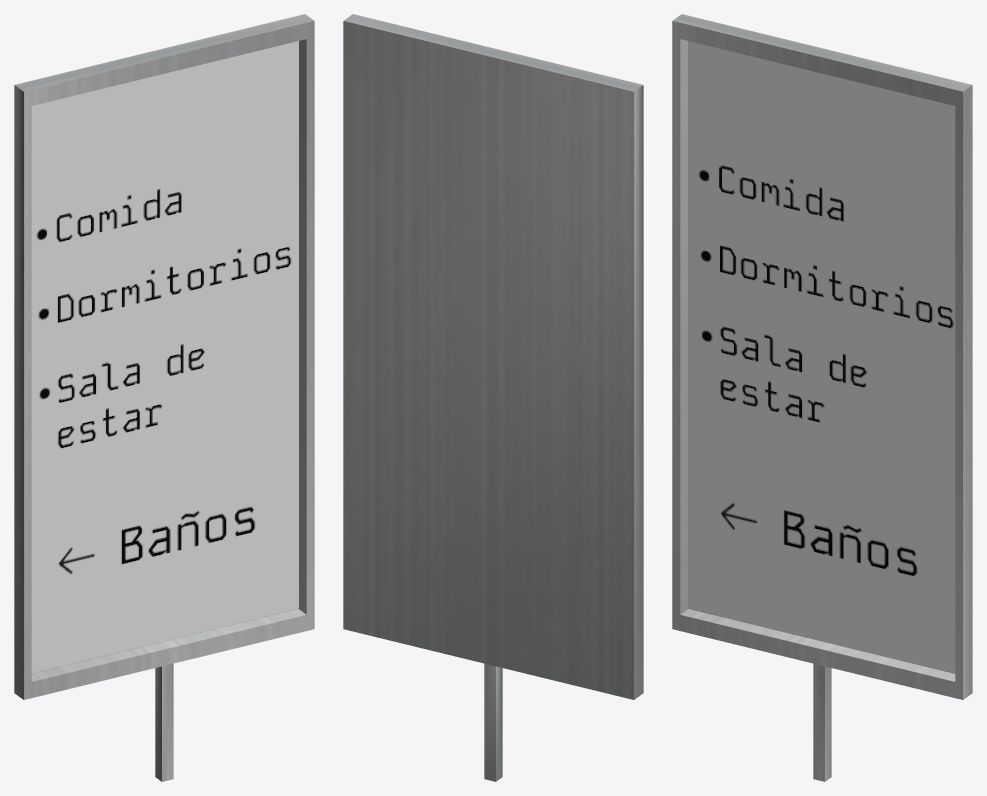
The model's file is instruccion-1.fbx.
3 renders of one model, left to right at view 1: azimuth 30°, elevation 25°; view 2: azimuth 150°, elevation 25°; view 3: azimuth 330°, elevation 25°, orthographic.
Parts seen in each view (by area): view 1: Plane; view 2: Plane; view 3: Plane.
Part boxes in pixels (x1,y1,x2,y2): Plane: (14, 14, 314, 781); Plane: (343, 14, 643, 781); Plane: (672, 14, 972, 781).
Bounding box in the file's own units: 250 × 596 × 14.
2 materials, 2 textured.
